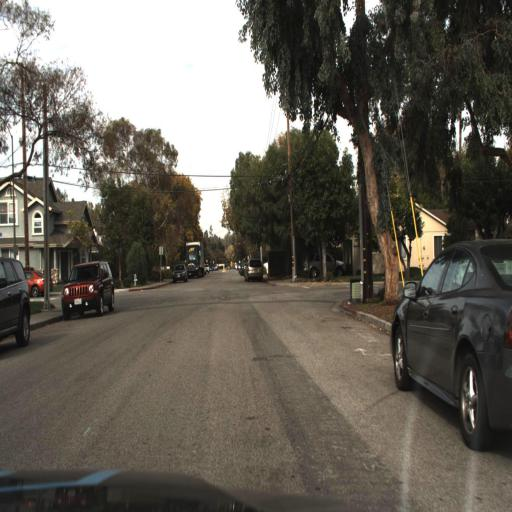car: (390, 235, 512, 455), (58, 246, 122, 315), (0, 252, 32, 350), (300, 245, 346, 281), (22, 266, 52, 295), (243, 256, 267, 281), (171, 263, 187, 281)
truck: (185, 238, 206, 279)
